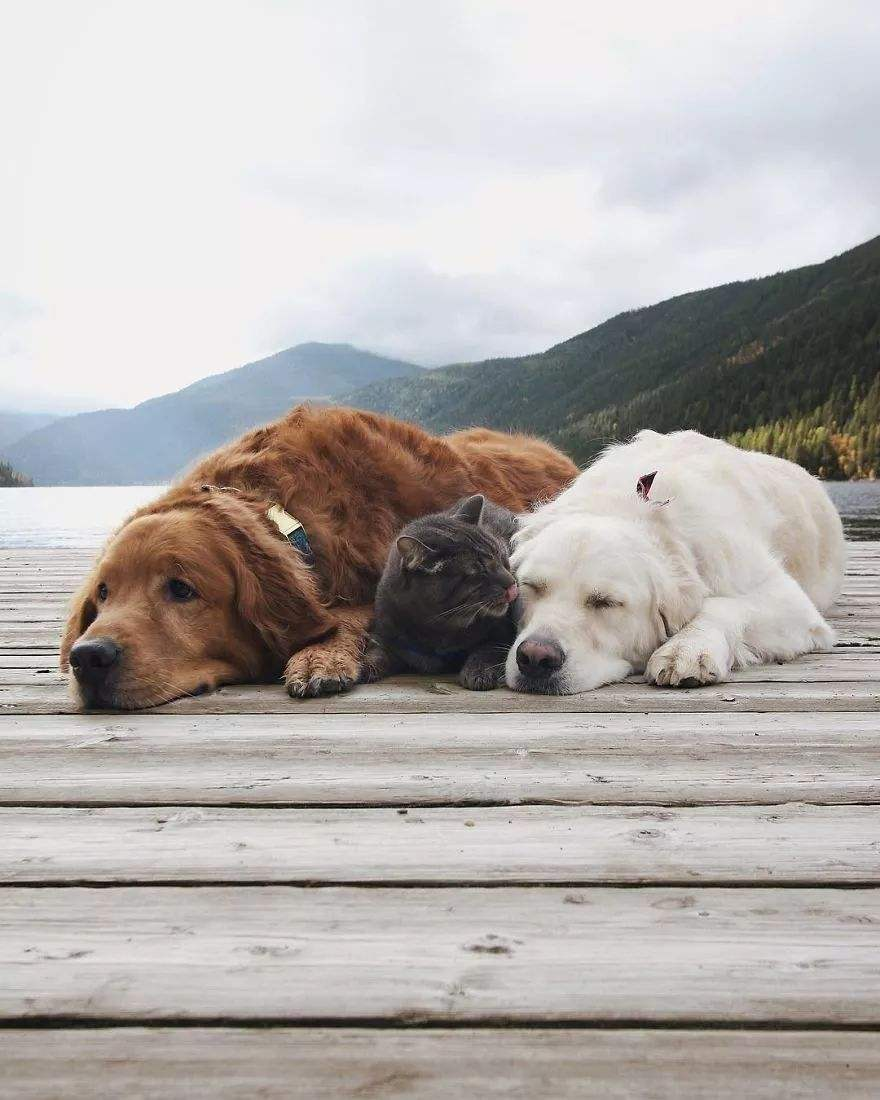cat: (370, 491, 521, 691)
